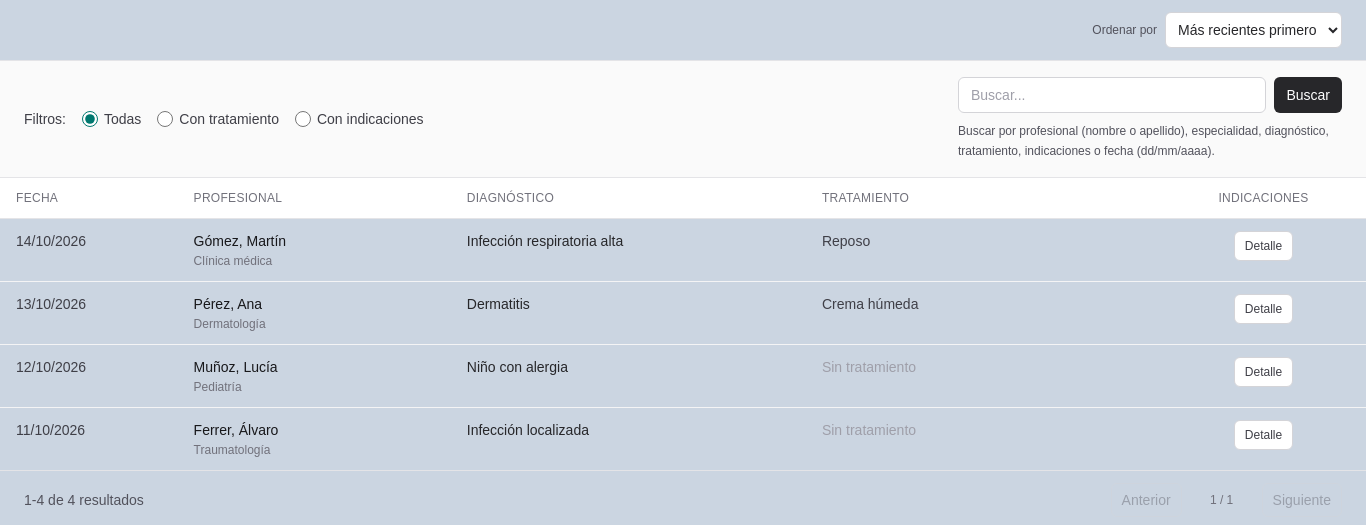
Test case: SIG-BUG-02: resultados de búsqueda del historial › conserva textos originales, registros de entrada y detalle de indicaciones
This screenshot has width=1366, height=525.
Type "infeccion respiratoria" into the search field.
click(1112, 95); type("infeccion respiratoria")  # box [958,77,1266,113]
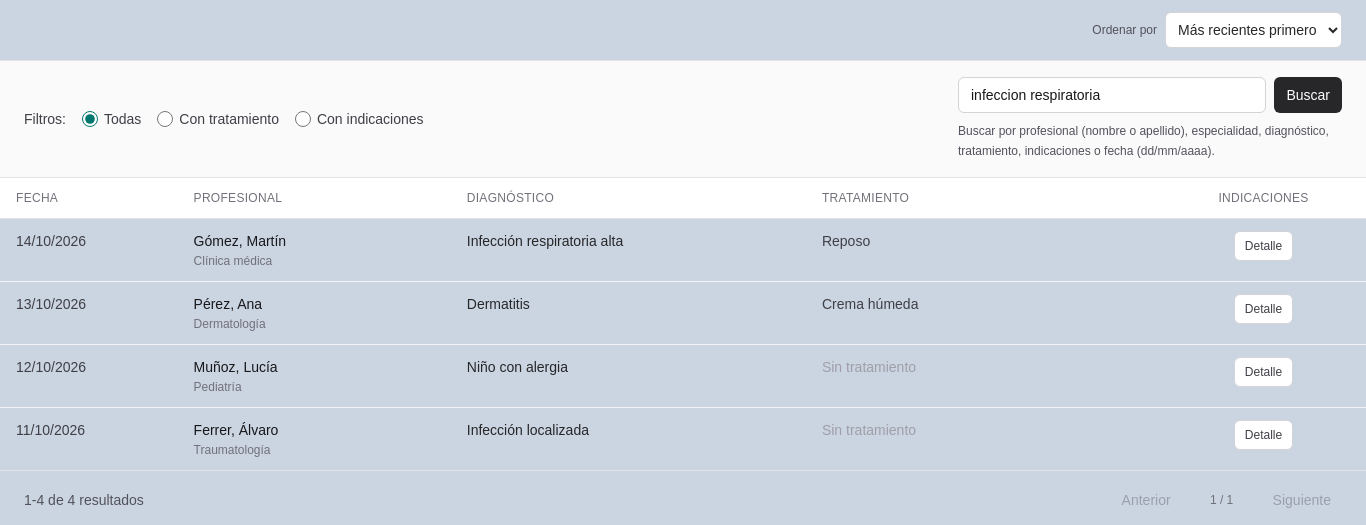
Click the button "Buscar".
click(1308, 95)  # box [1274,77,1342,113]
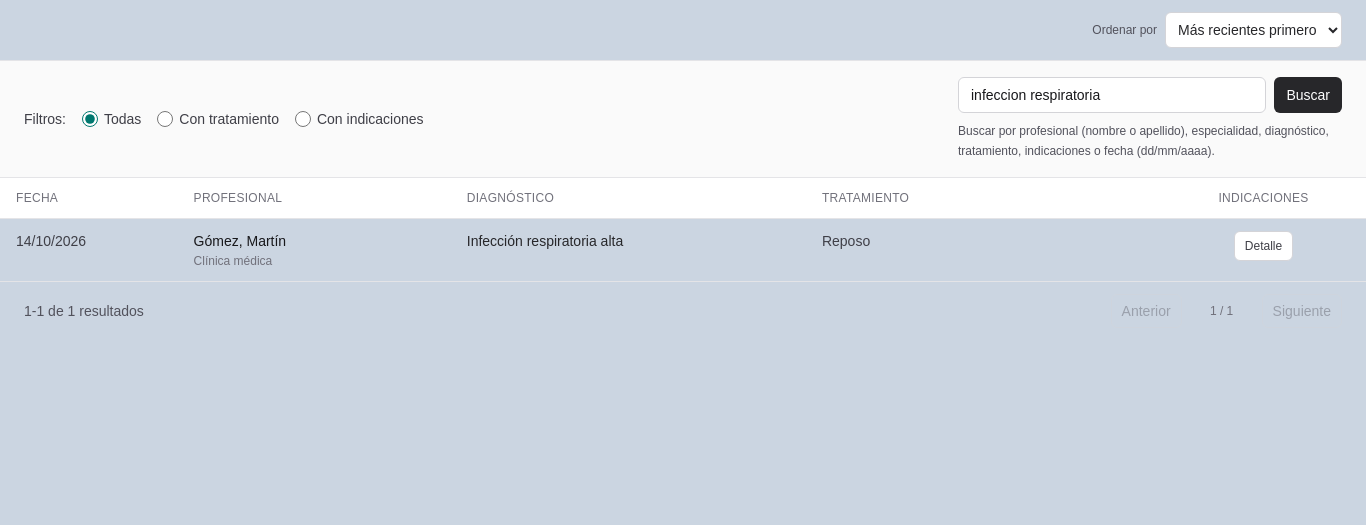
expect the text "Gómez, Martín" is shown: met, box [194,233,286,249]
expect the text "Infección respiratoria alta" is shown: met, box [451,218,806,281]
Click the button "Detalle".
click(1264, 246)  # box [1234,231,1293,261]
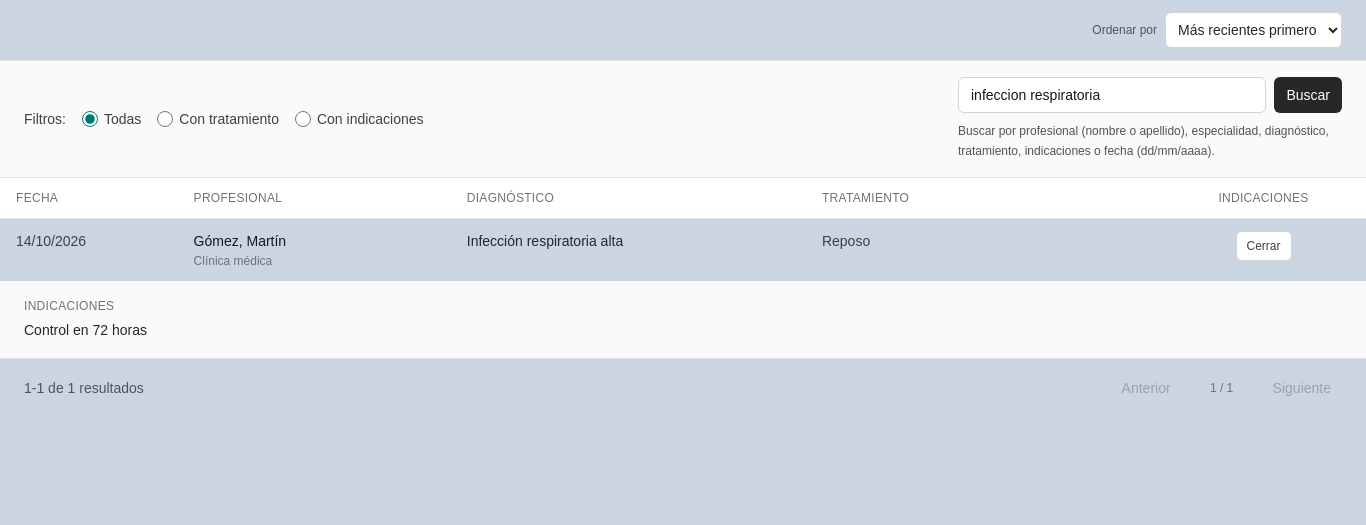
expect the text "Control en 72 horas" is shown: met, box [24,322,147,338]
Click the button "Cerrar".
click(1264, 246)  # box [1236,231,1292,261]
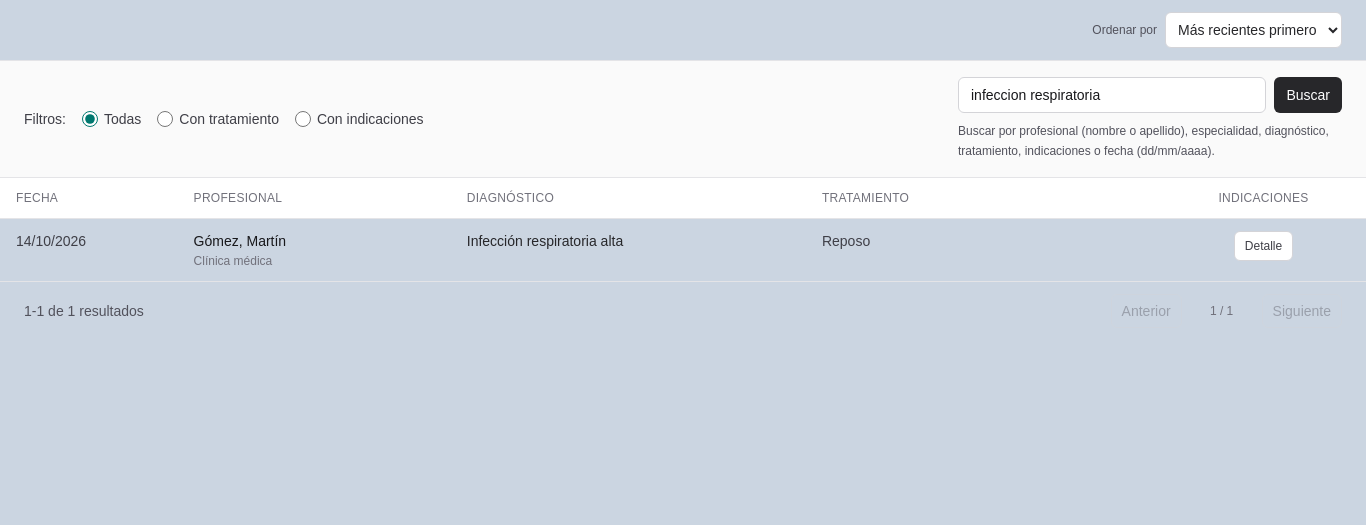
expect the text "Control en 72 horas" is gone: met
